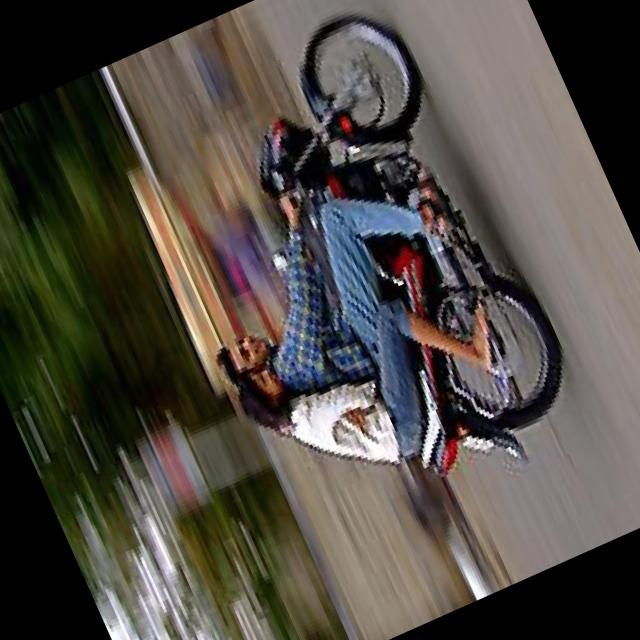bareface: (198, 314, 285, 396)
